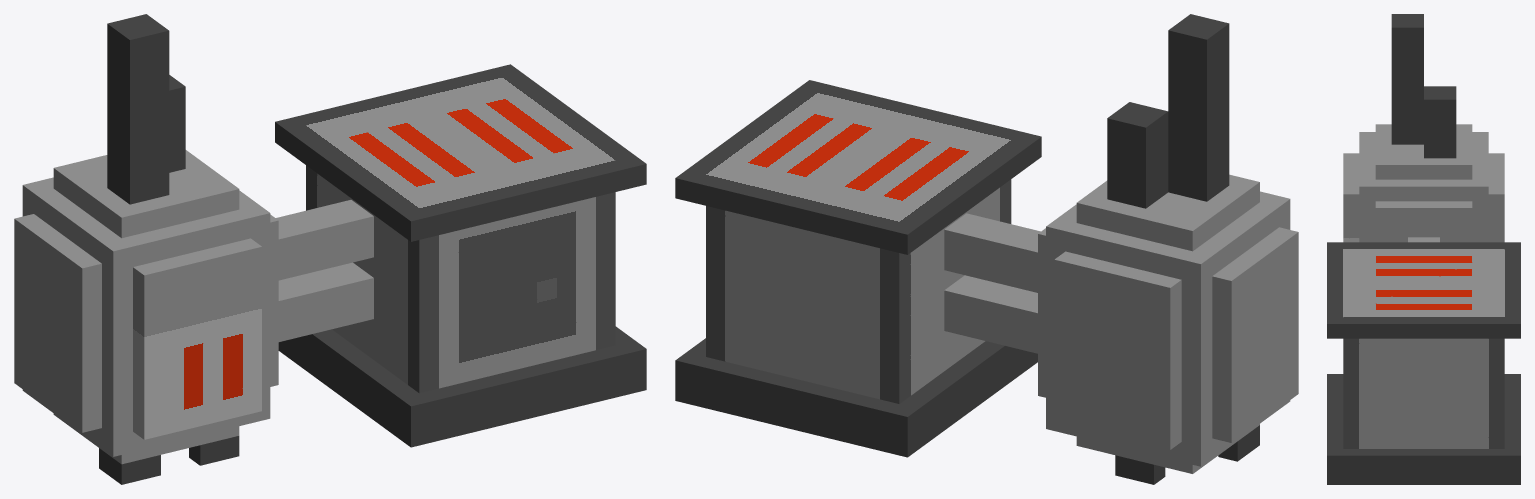
File: Range.fbx
The picture shows the model from 3 angles, left to right: view 1: azimuth 30°, elevation 25°; view 2: azimuth 150°, elevation 25°; view 3: azimuth 270°, elevation 25°; orthographic projection. The views are drawn at different scales.
Parts seen in each view (by area): view 1: Box; view 2: Box; view 3: Box.
Part boxes in pixels (x1,y1,x2,y2): Box: (14, 14, 646, 484); Box: (675, 14, 1298, 484); Box: (1327, 14, 1520, 484).
Bounding box in the file's own units: 27 × 21 × 12.
Materials: 1 (1 with a texture image).
